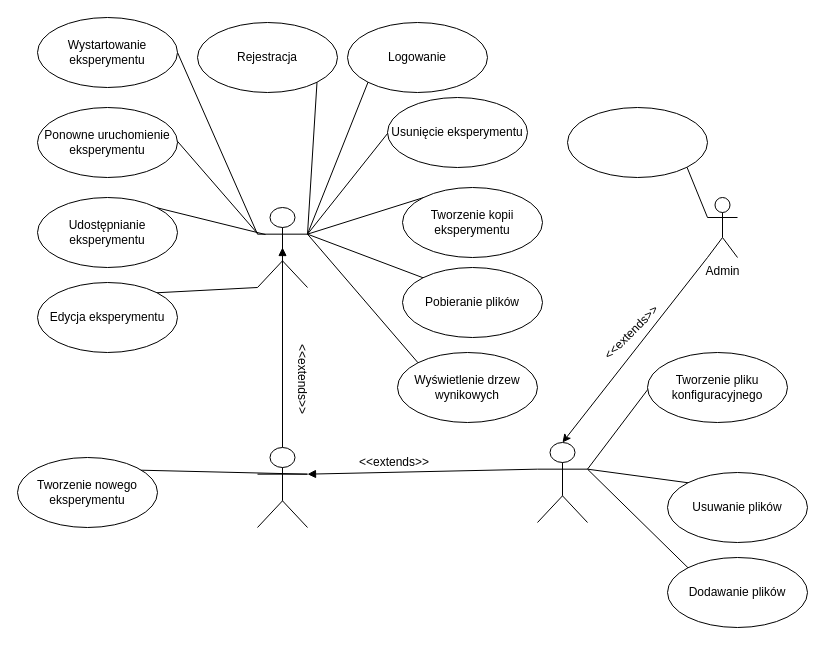
The diagram is 825 pixels wide and 645 high, and some of its shapes have lost their labels. The centre of each missing label's shape, as x and y in pixels:
Użytkownik 1_default: (x=282, y=247)
Użytkownik 2_exp: (x=282, y=487)
Użytkownik 3_exp_data: (x=562, y=482)
Zmienianie uprawnień użytkownika: (x=637, y=142)
